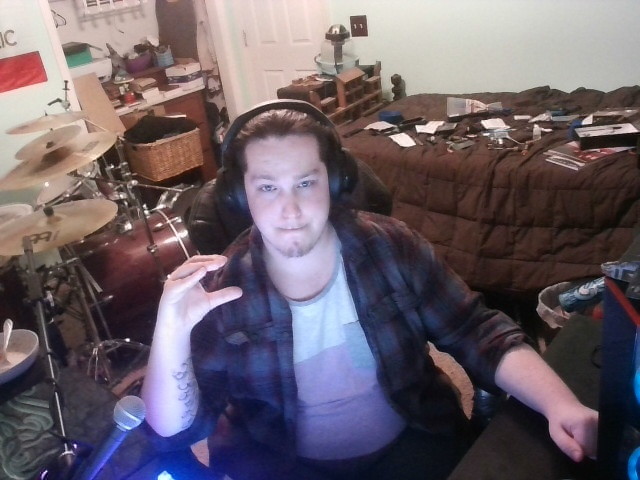drink: (148, 245, 255, 341)
